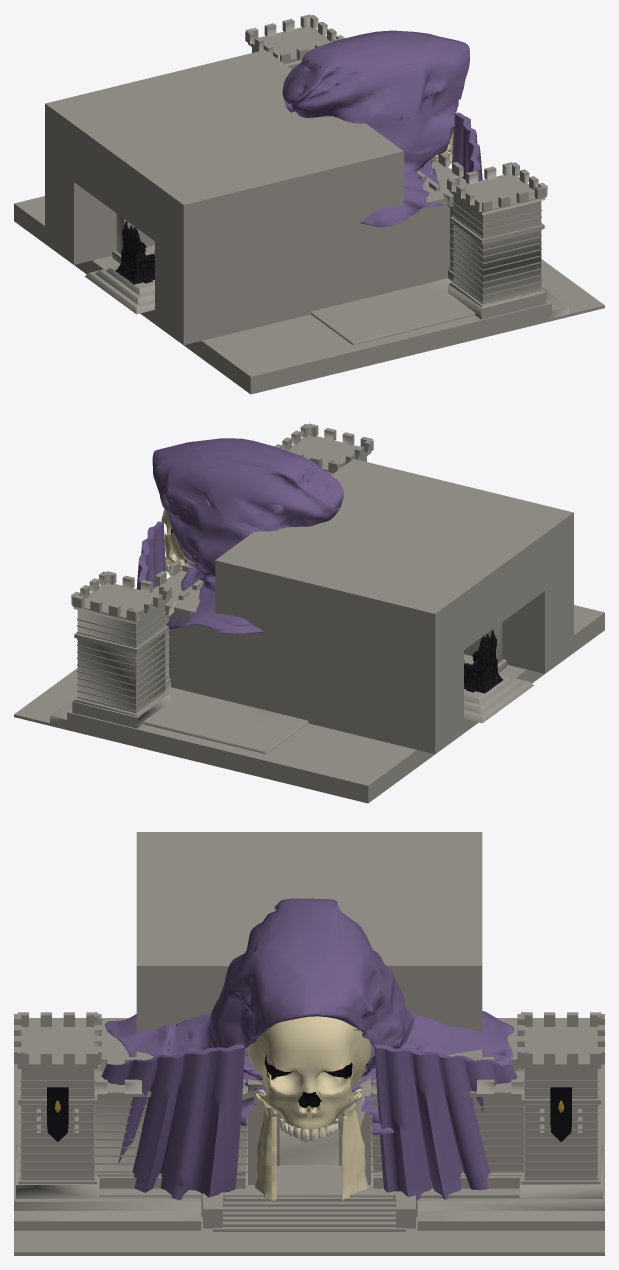
The model's file is leonidas-grayskull-lod0.glb.
3 renders of one model, top to bottom at view 1: azimuth 30°, elevation 25°; view 2: azimuth 150°, elevation 25°; view 3: azimuth 270°, elevation 25°, orthographic. The views are drawn at different scales.
Parts seen in each view (by area): view 1: GS_Interior, GS_Walls, GS_Hood, GS_Bastion_L, GS_Bastion_R, GS_Courses, GS_Throne, GS_ThroneSeat; view 2: GS_Interior, GS_Walls, GS_Hood, GS_Bastion_R, GS_Bastion_L, GS_Courses, GS_Throne, GS_ThroneSeat, GS_Skull; view 3: GS_Hood, GS_Interior, GS_Walls, GS_Bastion_L, GS_Bastion_R, GS_Skull, GS_Stairs, GS_Courses, GS_Jambs, GS_Banner_L, GS_Banner_R, GS_Teeth (+1 smaller).
Boxes of the visible parts, x1,y1,x2,y2 form: GS_Interior: (45, 50, 449, 344); GS_Walls: (14, 152, 604, 394); GS_Hood: (282, 30, 482, 226); GS_Bastion_L: (447, 162, 547, 319); GS_Bastion_R: (245, 14, 345, 69); GS_Courses: (449, 202, 541, 303); GS_Throne: (85, 265, 154, 314); GS_ThroneSeat: (115, 221, 154, 284); GS_Interior: (169, 459, 573, 753); GS_Walls: (14, 561, 604, 803); GS_Hood: (136, 438, 343, 634); GS_Bastion_R: (71, 571, 171, 728); GS_Bastion_L: (274, 423, 373, 474); GS_Courses: (77, 611, 169, 712); GS_Throne: (464, 674, 533, 723); GS_ThroneSeat: (464, 630, 503, 693); GS_Skull: (161, 509, 194, 570); GS_Hood: (101, 898, 517, 1200); GS_Interior: (136, 832, 482, 1118); GS_Walls: (14, 1018, 604, 1255); GS_Bastion_L: (14, 1012, 101, 1198); GS_Bastion_R: (517, 1012, 604, 1198); GS_Skull: (247, 1016, 371, 1132); GS_Stairs: (203, 1191, 415, 1231); GS_Courses: (20, 1069, 598, 1179); GS_Jambs: (255, 1092, 367, 1200); GS_Banner_L: (47, 1087, 68, 1141); GS_Banner_R: (550, 1087, 571, 1141); GS_Teeth: (280, 1121, 338, 1141).
Size of the model in its own units: 117 by 62.22 by 128.
